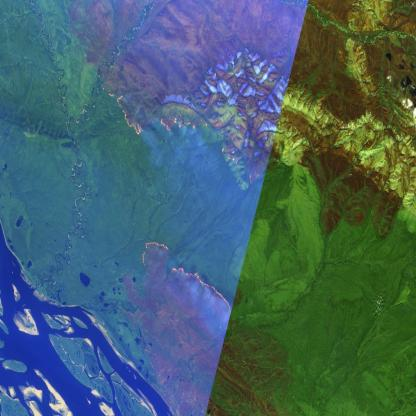fire: (104, 84, 242, 169), (138, 237, 232, 317)
